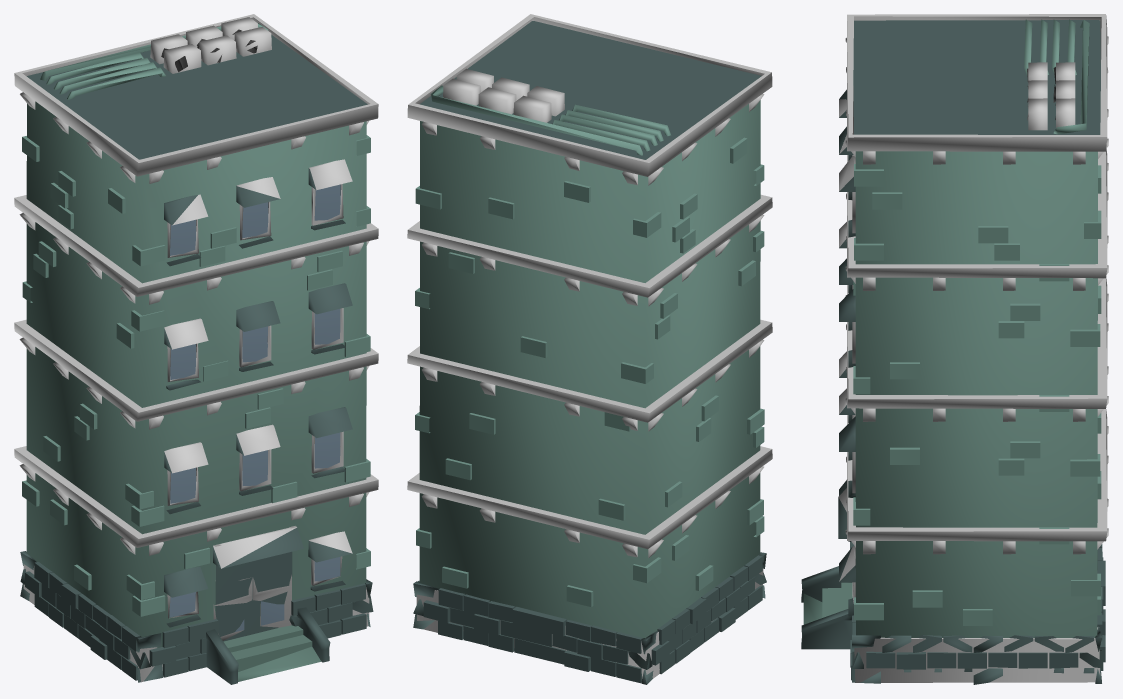
File: medium-building-b.low.glb
3 views of the same model, side by side, from view 1: azimuth 30°, elevation 25°; view 2: azimuth 150°, elevation 25°; view 3: azimuth 270°, elevation 25° (orthographic). The views are drawn at different scales.
Visible parts, largest first — view 1: 4Story_Mat; view 2: 4Story_Mat; view 3: 4Story_Mat.
Part boxes in pixels (left/top/right/bottom): 4Story_Mat: left=14, top=14, right=378, bottom=684; 4Story_Mat: left=407, top=14, right=772, bottom=684; 4Story_Mat: left=801, top=14, right=1108, bottom=684.
Size of the model in its own units: 2.43 by 5.09 by 2.52.
